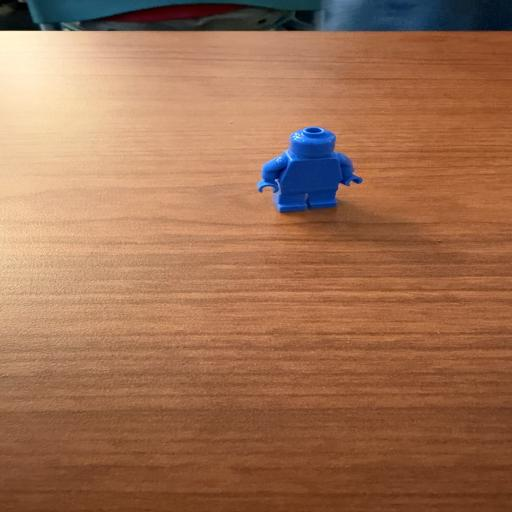Minifig: (257, 126, 363, 213)
